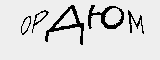Д: (43, 3, 88, 48)
М: (125, 8, 144, 38)
О: (19, 13, 33, 37)
Р: (30, 8, 51, 35)
Ю: (84, 2, 126, 32)
